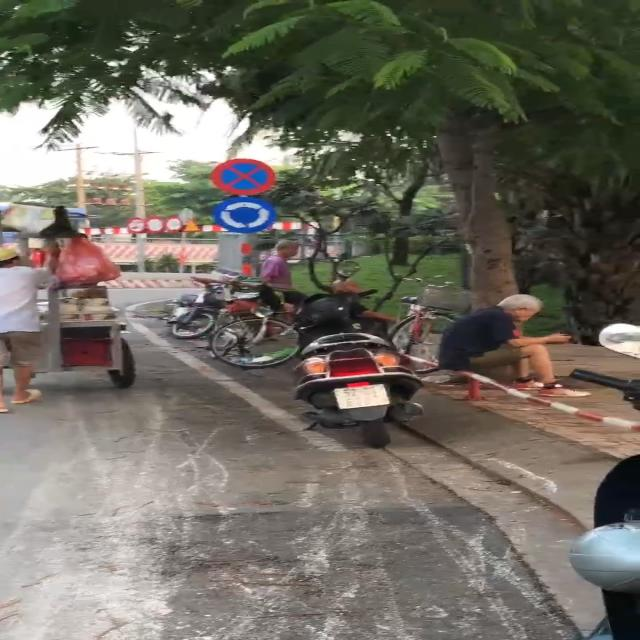Bien bao cam dung xe va do xe: (206, 158, 283, 194)
Bien bao noi giao nhau chay theo vong xuyen: (211, 197, 273, 234)
